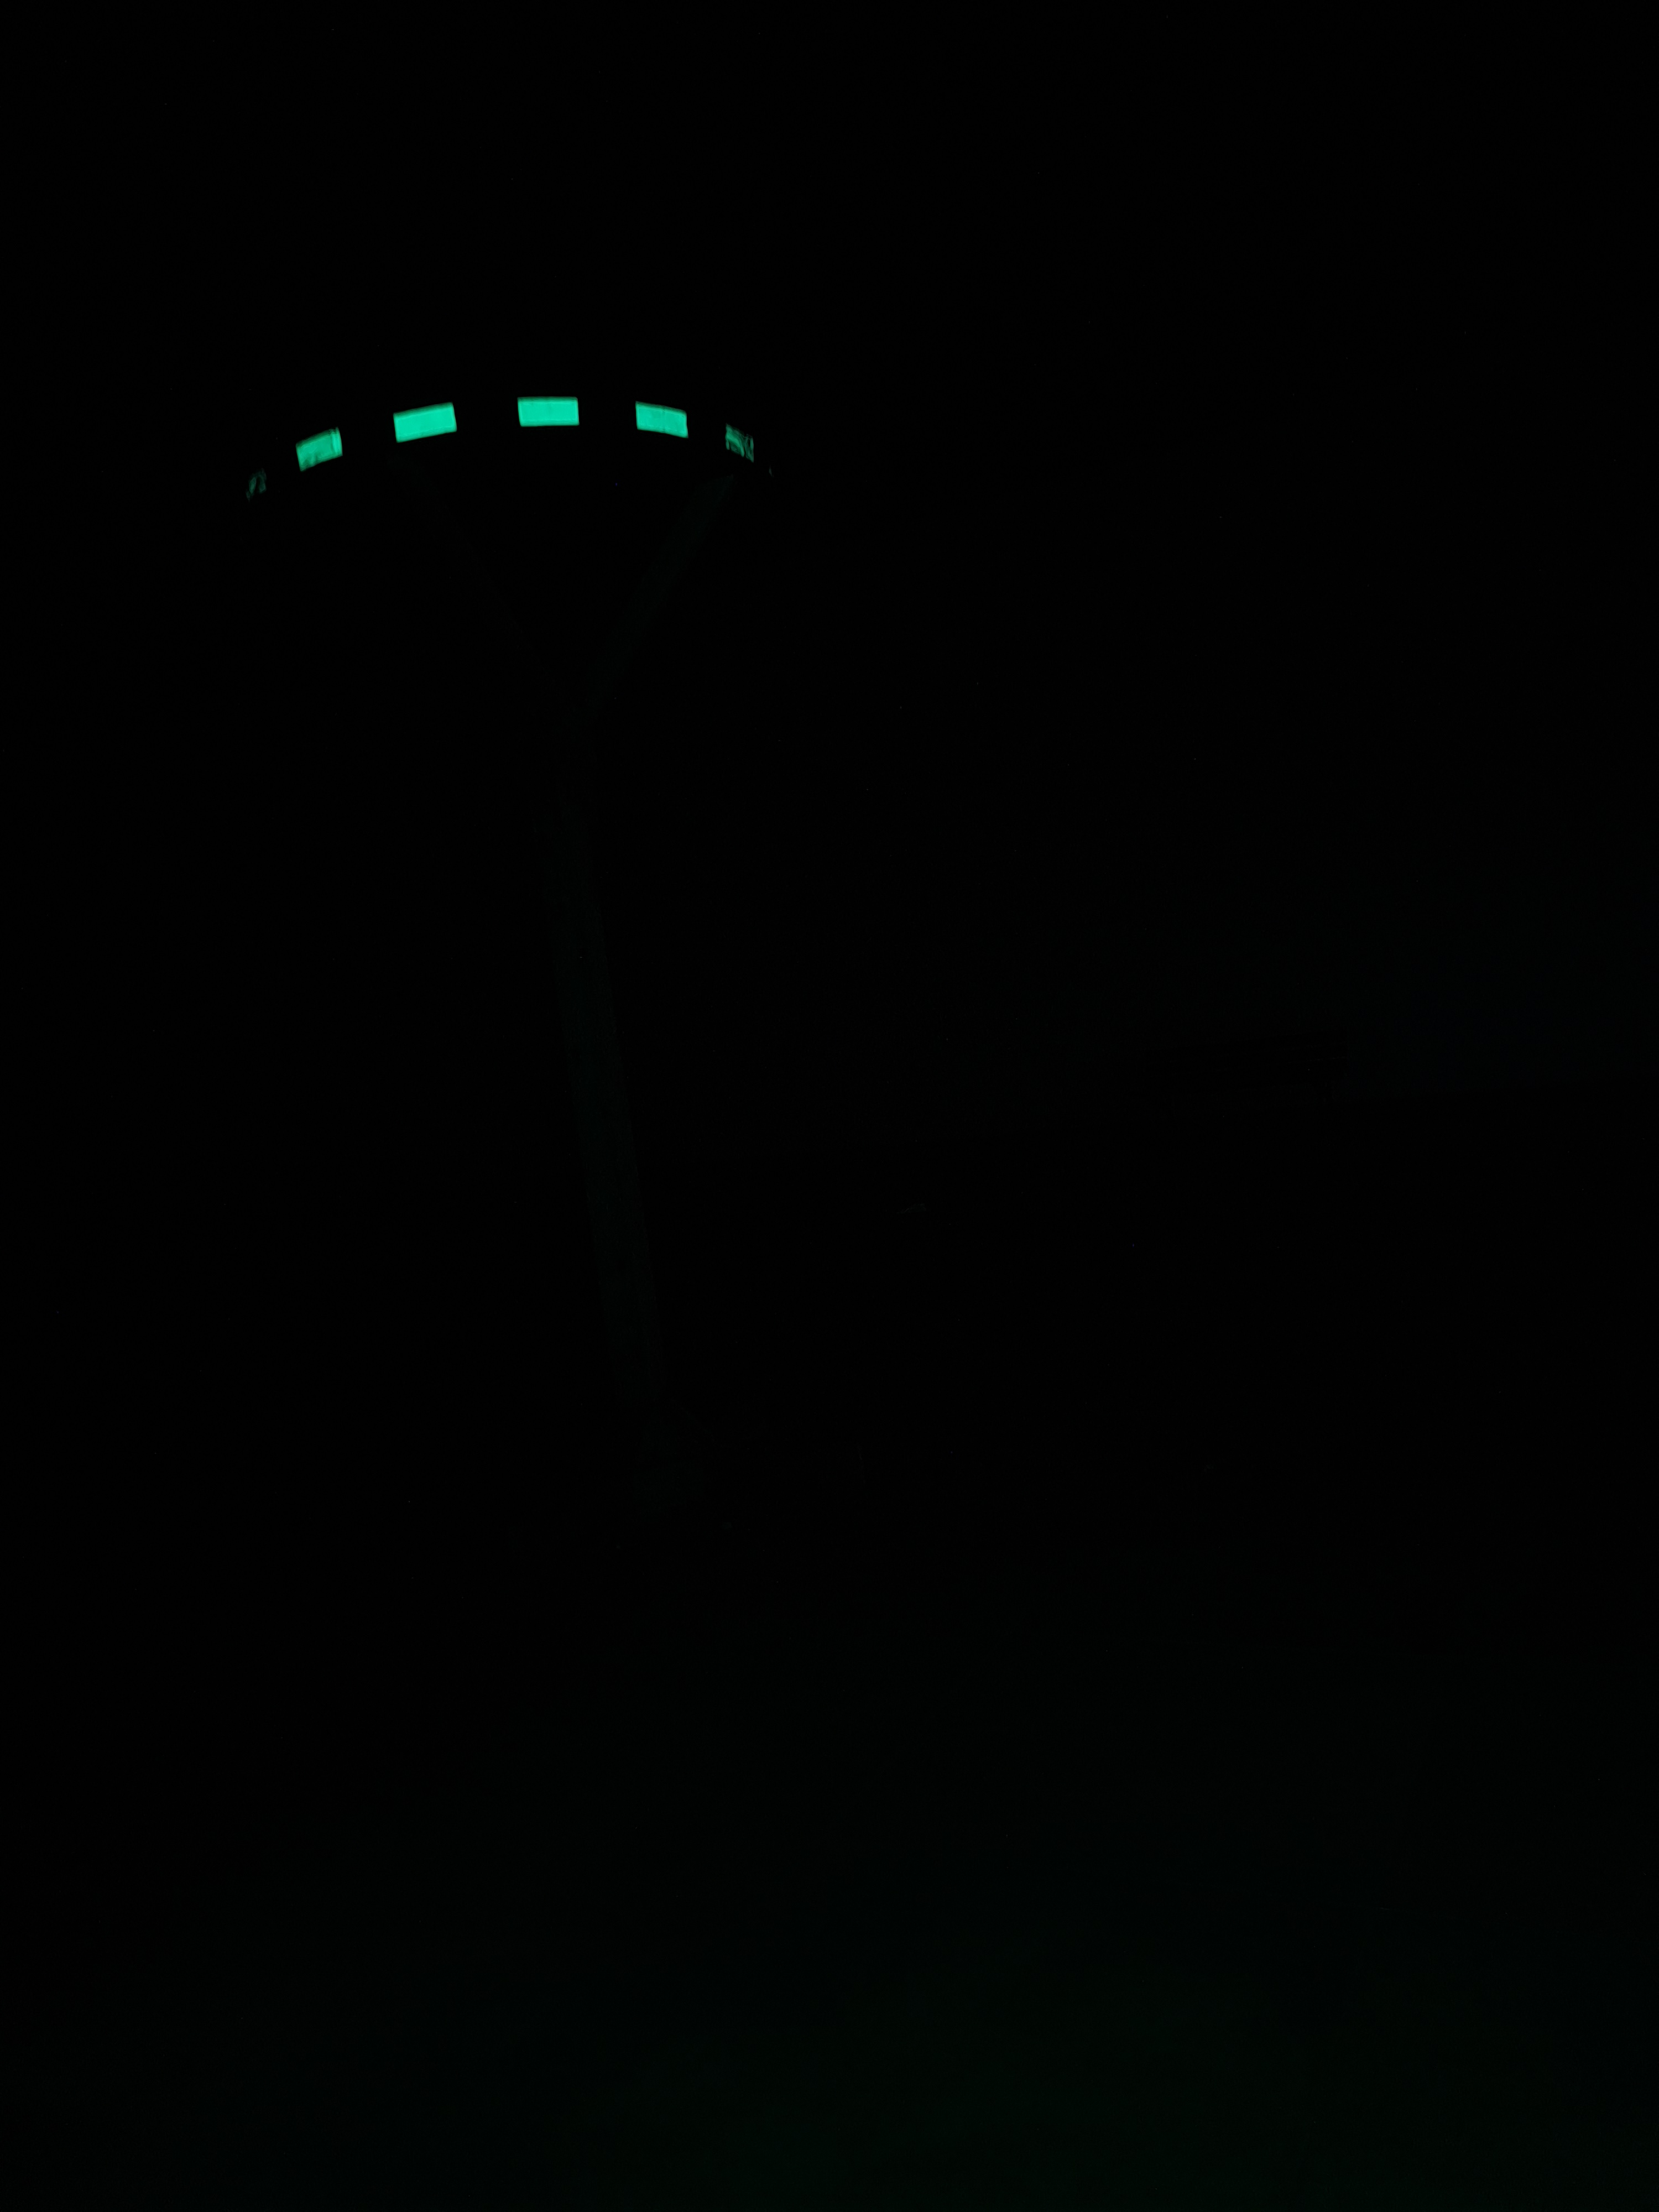hoop: (230, 392, 774, 496)
